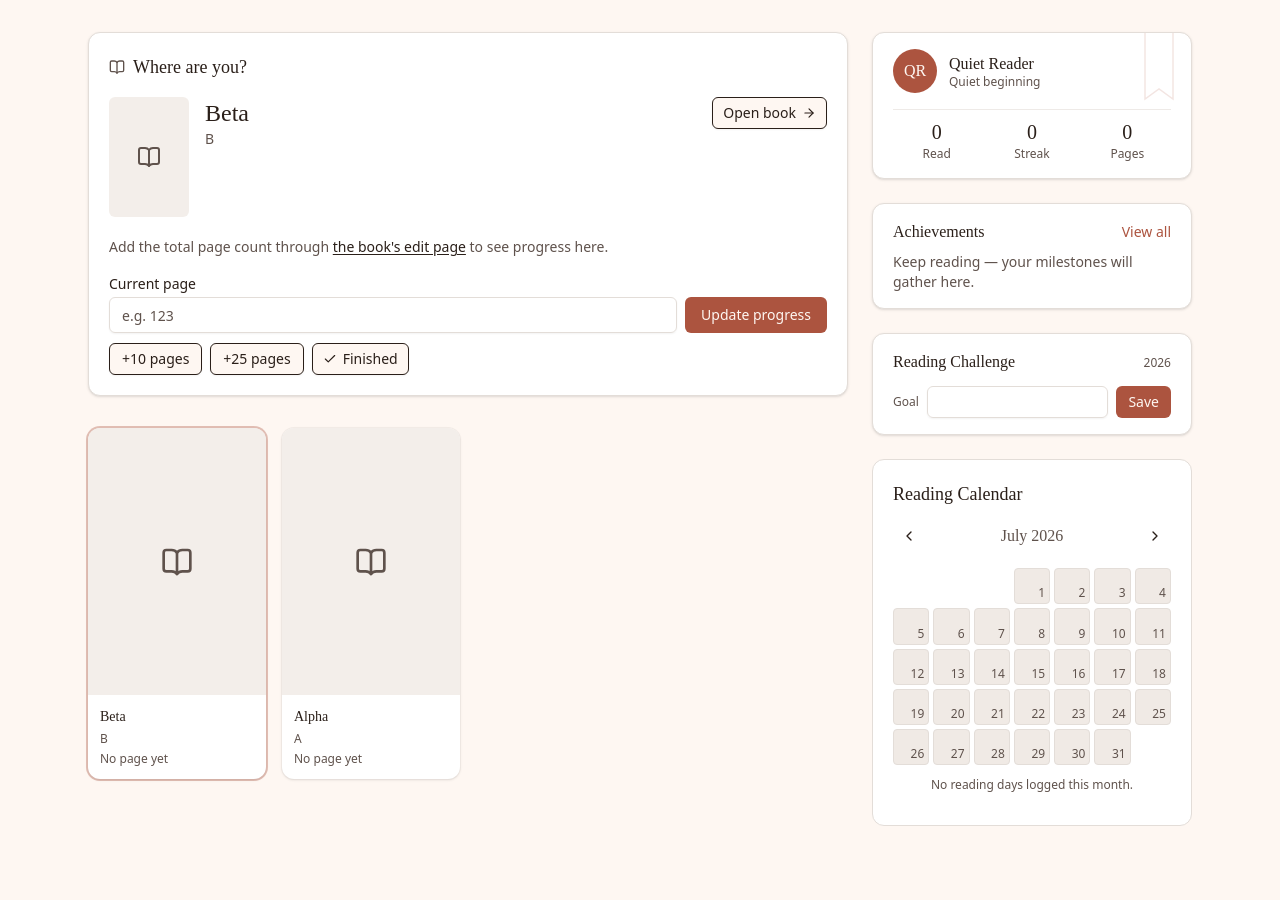
Test: ShelfClient — focused reading home (spec 015) › switches the focused progress book when a compact reading card is clicked
The width and height of the screenshot is (1280, 900).
Expected: the text "Beta" in the row of "Open book" is shown, [205,100,249,126]
Click the button with aria-label "focus alpha".
click(371, 604)  # box [282,428,460,779]
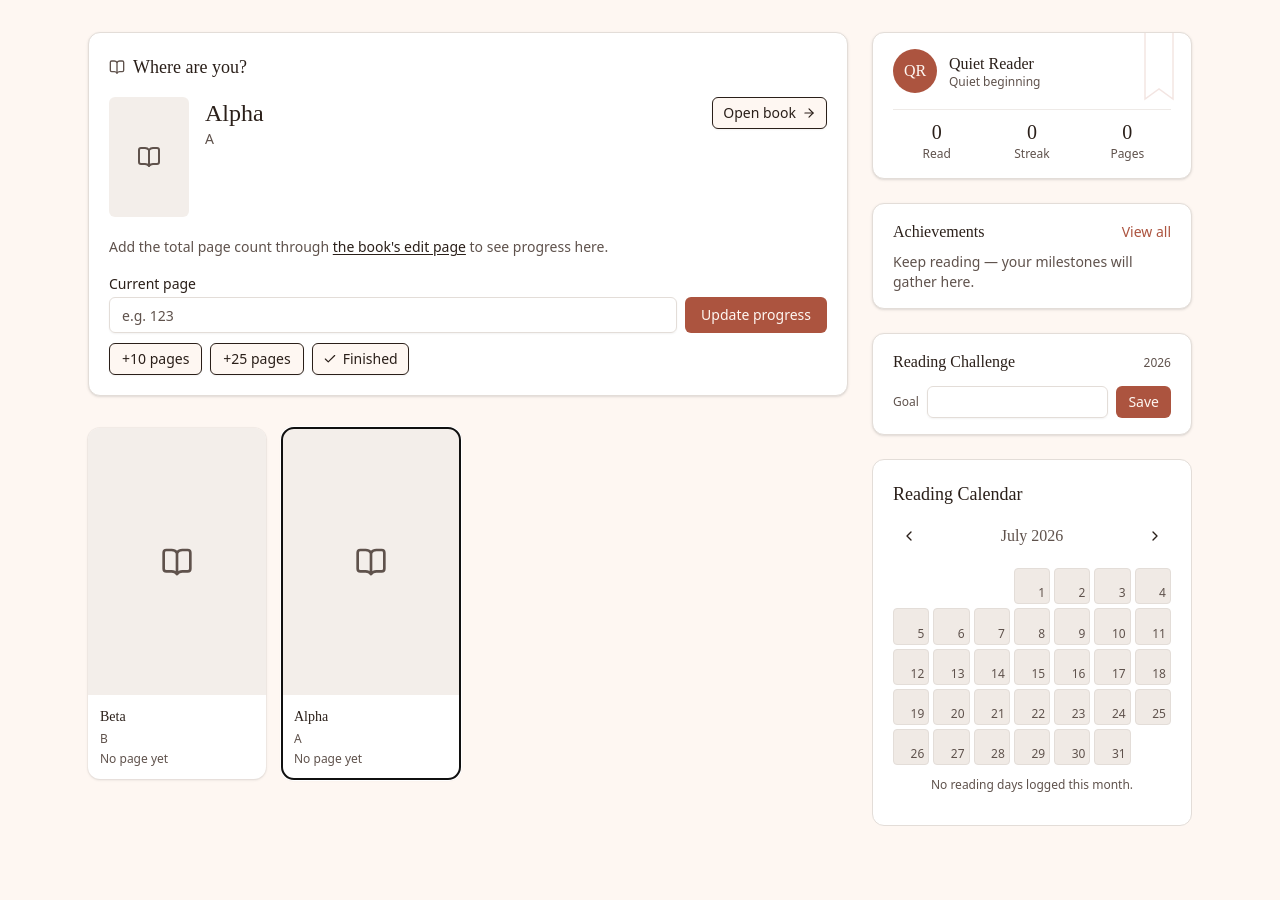
Expected: the text "Alpha" in the row of "Open book" is shown, [205,100,264,126]
